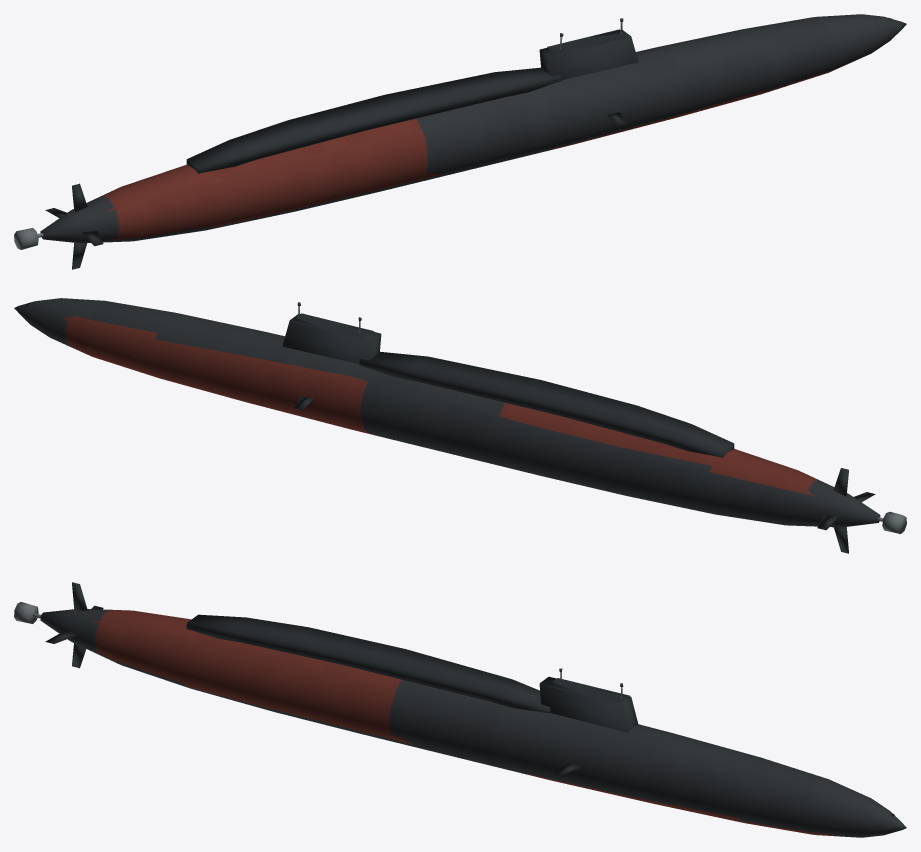
Rendered from US_SSBN_Ohio_LOD3.fbx.
The picture shows the model from 3 angles, top to bottom: view 1: azimuth 30°, elevation 25°; view 2: azimuth 150°, elevation 25°; view 3: azimuth 330°, elevation 25°; orthographic projection.
Parts seen in each view (by area): view 1: US_SSBN_Ohio_LOD3; view 2: US_SSBN_Ohio_LOD3; view 3: US_SSBN_Ohio_LOD3.
Boxes of the visible parts, box(x1,y1,x2,y2) form: US_SSBN_Ohio_LOD3: box(14, 14, 906, 269); US_SSBN_Ohio_LOD3: box(14, 298, 906, 553); US_SSBN_Ohio_LOD3: box(14, 582, 906, 837).
Size of the model in its own units: 175 by 21.96 by 21.94.
Materials: 6 (1 with a texture image).
